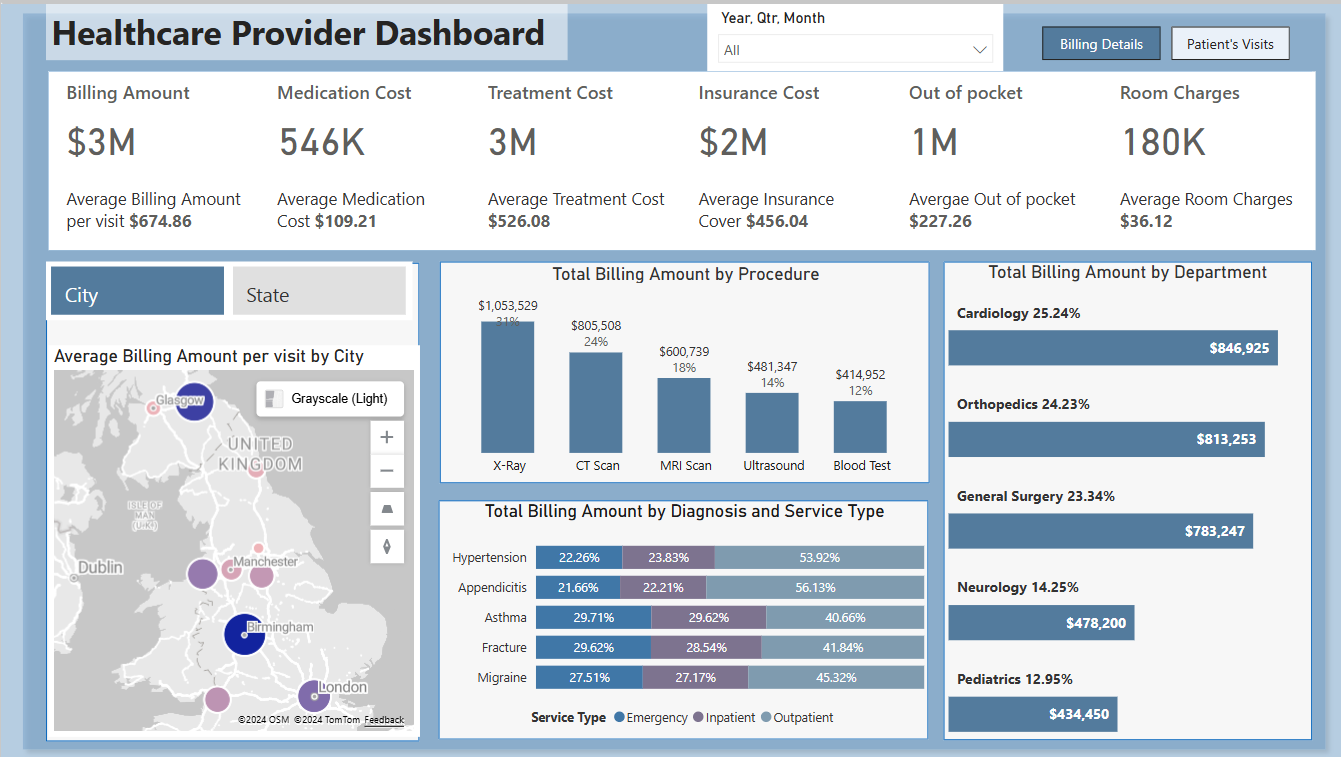

This screenshot's page, from the dashboard's own definition file:
{"tool":"powerbi","page":{"name":"Billing Details","canvas":[1280,720],"ordinal":0},"visuals":[{"type":"shape","box":[12.2,0,1260.5,720.1],"z":0},{"type":"shape","box":[45.7,63.9,1205.7,170.5],"z":1000},{"type":"shape","box":[42.6,246.6,356.2,456.7],"z":2000},{"type":"shape","box":[418.7,245.1,467.4,211.6],"z":3000},{"type":"shape","box":[899.7,245.1,351.7,456.7],"z":4000},{"type":"shape","box":[417.1,473.5,467.4,228.4],"z":5000},{"type":"advancedSlicerVisual","fields":{"Values":["Patient_Location.Patient_Location"]},"box":[43,246,349.7,56.3],"z":6000},{"type":"clusteredColumnChart","fields":{"Category":["procedures.Procedure"],"Y":["Dax_calculation.Total Billing Amount"]},"box":[420.2,246.6,467.4,211.6],"z":7000},{"type":"hundredPercentStackedBarChart","fields":{"Y":["Dax_calculation.Total Billing Amount"],"Category":["diagnoses.Diagnosis"],"Series":["visits.Service Type"]},"box":[418.7,473.5,467.4,225.3],"z":8000},{"type":"clusteredBarChart","title":"Total Billing Amount by Department","fields":{"Category":["departments.Department"],"Y":["Dax_calculation.Blank Measure","Dax_calculation.Total Billing Amount"]},"box":[899.7,245.1,351.7,456.7],"z":9000},{"type":"cardVisual","fields":{"Data":["Dax_calculation.Total Billing Amount","Dax_calculation.Total Medication Cost","Dax_calculation.Total Treatment Cost","Dax_calculation.Total Insurance Cover","Dax_calculation.Out of pocket","Dax_calculation.Total Room Charges"]},"box":[45.7,63.9,1208.8,170.5],"z":10000},{"type":"slicer","fields":{"Values":["Date_Table.Year","Date_Table.Qtr","Date_Table.Month"]},"box":[673.8,0,282.6,64.2],"z":11000},{"type":"textbox","box":[42.6,0,497.8,53.3],"z":12000},{"type":"azureMap","fields":{"Category":["cities.City"],"Size":["Dax_calculation.Average Billing Amount per visit"]},"box":[45.3,325.2,354,373.2],"z":13000},{"type":"pageNavigator","box":[993.1,21.4,236.8,32.1],"z":14000}]}

Visuals, with their boxes in screenshot pixels (x1, y1, x2, y2), scaled from the page's 1280x720 canvas onto the 1341x757 screenshot:
shape: <region>13, 0, 1333, 756</region>
shape: <region>48, 67, 1311, 246</region>
shape: <region>45, 259, 418, 739</region>
shape: <region>439, 258, 928, 480</region>
shape: <region>943, 258, 1311, 738</region>
shape: <region>437, 498, 927, 738</region>
advancedSlicerVisual - Patient_Location.Patient_Location: <region>45, 259, 411, 318</region>
clusteredColumnChart - procedures.Procedure x Dax_calculation.Total Billing Amount: <region>440, 259, 930, 482</region>
hundredPercentStackedBarChart - Dax_calculation.Total Billing Amount x diagnoses.Diagnosis: <region>439, 498, 928, 735</region>
"Total Billing Amount by Department" clusteredBarChart: <region>943, 258, 1311, 738</region>
cardVisual - Dax_calculation.Total Billing Amount x Dax_calculation.Total Medication Cost: <region>48, 67, 1314, 246</region>
slicer - Date_Table.Year x Date_Table.Qtr: <region>706, 0, 1002, 67</region>
textbox: <region>45, 0, 566, 56</region>
azureMap - cities.City x Dax_calculation.Average Billing Amount per visit: <region>47, 342, 418, 734</region>
pageNavigator: <region>1040, 22, 1289, 56</region>
